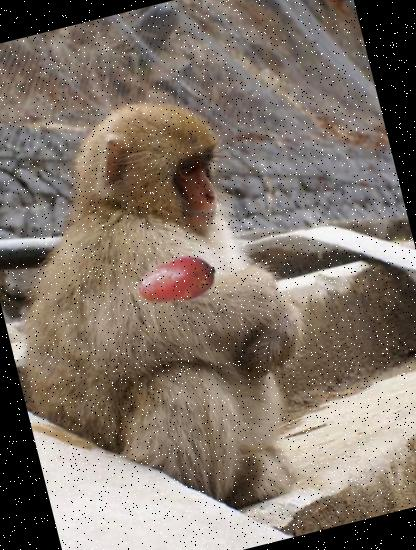Potato: (128, 233, 225, 330)
